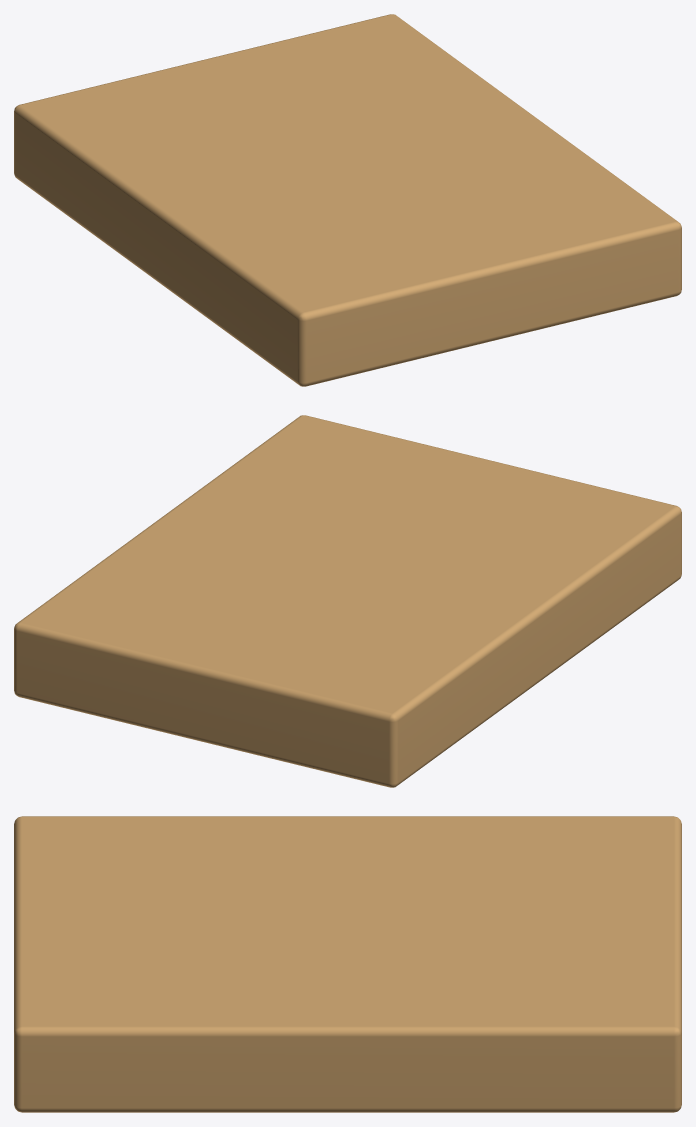
Rendered from SM_EG_Promotional_island_top_fe009d6598.fbx.
3 views of the same model, one above another, from view 1: azimuth 30°, elevation 25°; view 2: azimuth 150°, elevation 25°; view 3: azimuth 270°, elevation 25° (orthographic). The views are drawn at different scales.
Visible parts, largest first — view 1: SM_EG_Promotional_island_top_fe009d6598; view 2: SM_EG_Promotional_island_top_fe009d6598; view 3: SM_EG_Promotional_island_top_fe009d6598.
Boxes of the visible parts, left/top/right/bottom form: SM_EG_Promotional_island_top_fe009d6598: left=14, top=14, right=681, bottom=386; SM_EG_Promotional_island_top_fe009d6598: left=14, top=415, right=681, bottom=787; SM_EG_Promotional_island_top_fe009d6598: left=14, top=816, right=681, bottom=1112.
Size of the model in its own units: 260 by 340 by 48.
